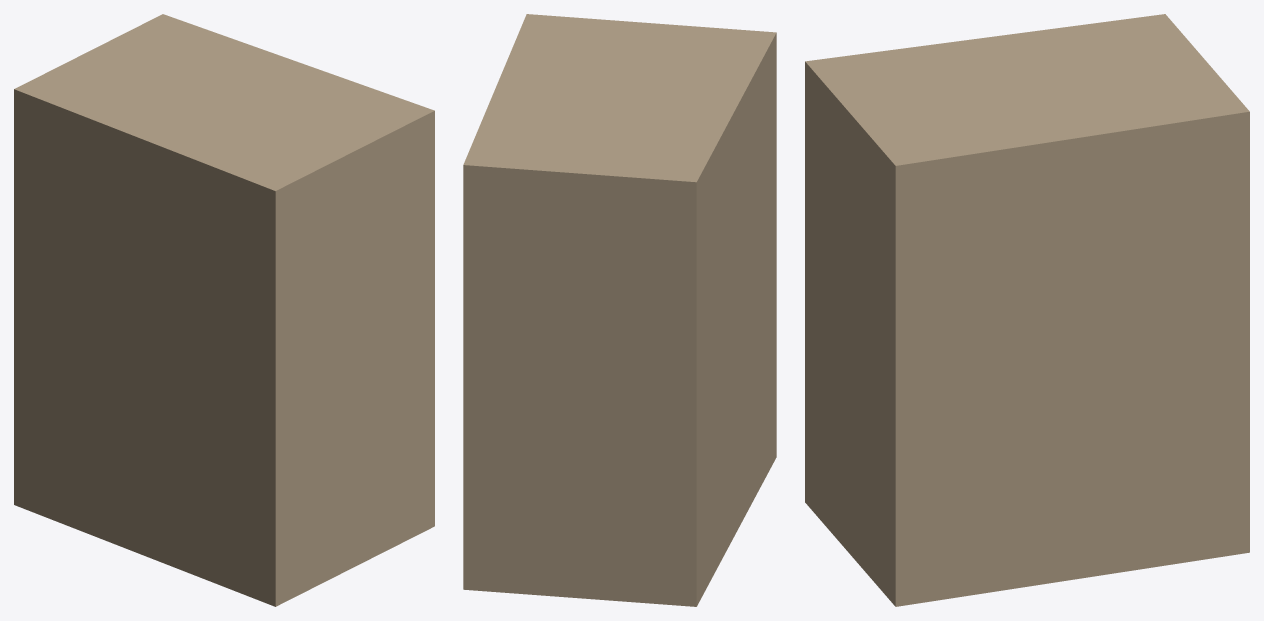
The model's file is bld_99007831.dae.
3 views of the same model, side by side, from view 1: azimuth 30°, elevation 25°; view 2: azimuth 150°, elevation 25°; view 3: azimuth 270°, elevation 25° (orthographic). The views are drawn at different scales.
Visible parts, largest first — view 1: Heart of Craft; view 2: Heart of Craft; view 3: Heart of Craft.
Boxes of the visible parts, bbox=[...] form: Heart of Craft: bbox=[14, 14, 434, 606]; Heart of Craft: bbox=[463, 14, 776, 606]; Heart of Craft: bbox=[805, 14, 1249, 606].
Size of the model in its own units: 5.91 by 7.31 by 8.
